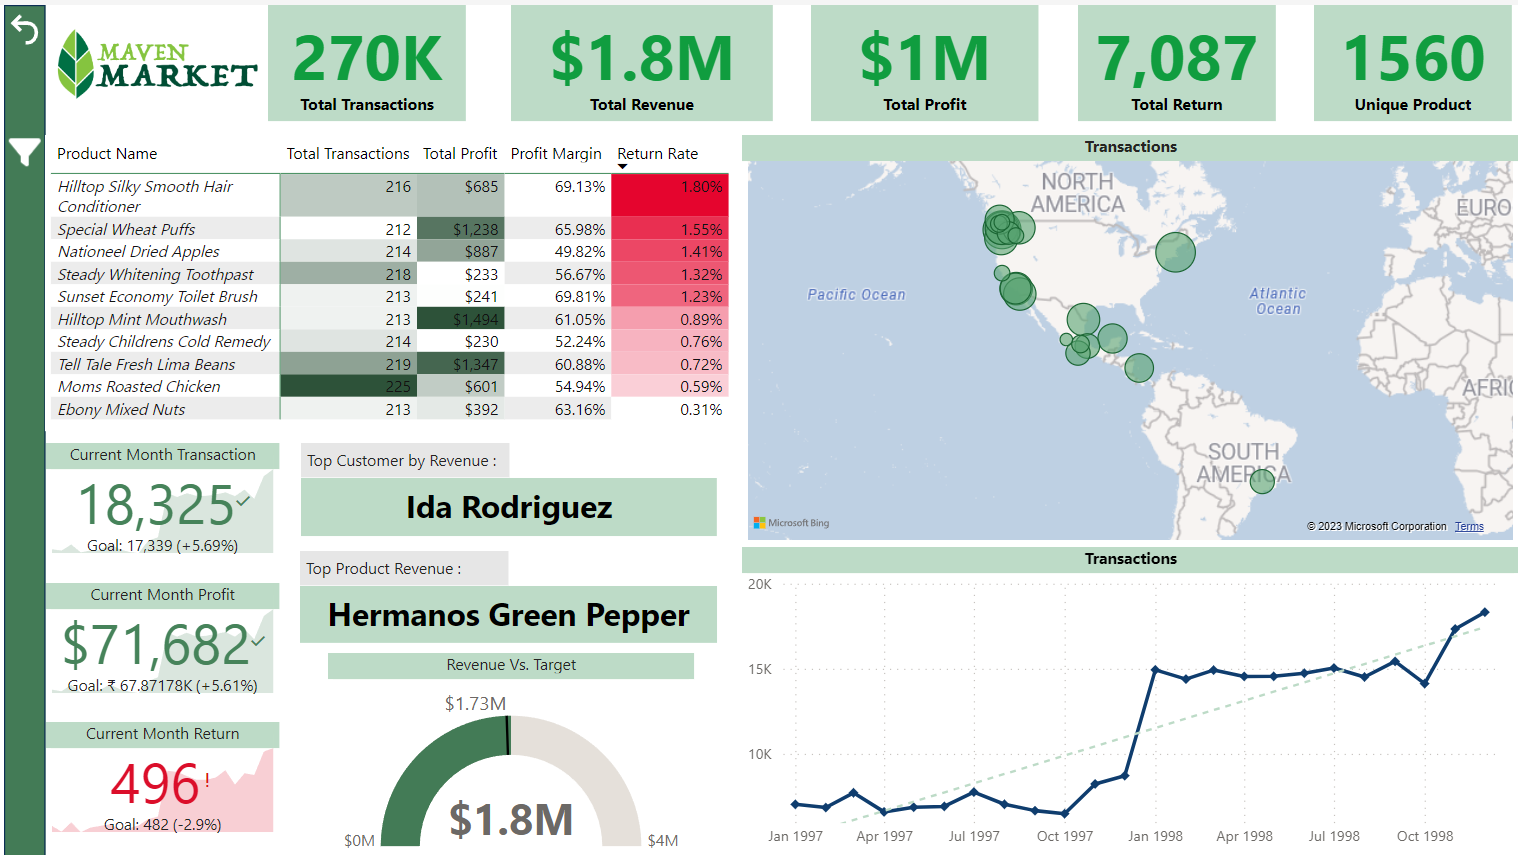

The dashboard page shown, as its layout file describes it:
{"tool":"powerbi","page":{"name":"Main Dashboard","canvas":[1280,720],"ordinal":0},"visuals":[{"type":"image","box":[35.8,0,187.2,97.6],"z":0},{"type":"card","fields":{"Values":["Measure Table.Total Transactions"]},"box":[223,0,166.6,97.6],"z":1000},{"type":"card","fields":{"Values":["Measure Table.Total Revenue"]},"box":[428.1,0,221.2,97.6],"z":2000},{"type":"card","fields":{"Values":["Measure Table.Total Profit"]},"box":[681.5,0,191.6,97.6],"z":3000},{"type":"card","fields":{"Values":["Measure Table.Total Return"]},"box":[906.3,0,166.6,97.6],"z":4000},{"type":"map","fields":{"Size":["Measure Table.Total Transactions"],"Category":["Stores.City"]},"box":[623.3,110.1,656.4,347.5],"z":5000},{"type":"lineChart","fields":{"Y":["Measure Table.Total Transactions"],"Category":["Calendar.Date Hierarchy.Year","Calendar.Date Hierarchy.Start of Month"]},"box":[623.3,457.6,656.4,262.4],"z":6000},{"type":"card","fields":{"Values":["Measure Table.Unique Product"]},"box":[1106,0,166.6,97.6],"z":7000},{"type":"shape","box":[0,0,34.9,720],"z":8000},{"type":"actionButton","box":[0,0,34.9,40.3],"z":9000},{"type":"pivotTable","fields":{"Rows":["Products.product_name"],"Values":["Measure Table.Total Transactions","Measure Table.Total Profit","Measure Table.Profit Margin","Measure Table.Return Rate"]},"box":[34.9,110.1,588.4,249.9],"z":10000},{"type":"kpi","title":"Current Month Transaction","fields":{"Indicator":["Measure Table.Total Transactions"],"TrendLine":["Calendar.Start of Month"],"Goal":["Measure Table.Last Month Transactions"]},"box":[35.8,369.9,197,97.6],"z":11000},{"type":"kpi","title":"Current Month Profit","fields":{"TrendLine":["Calendar.Start of Month"],"Indicator":["Measure Table.Total Profit"],"Goal":["Measure Table.Last Month profit"]},"box":[35.8,487.6,197,97.6],"z":12000},{"type":"kpi","title":"Current Month Return","fields":{"TrendLine":["Calendar.Start of Month"],"Indicator":["Measure Table.Total Return"],"Goal":["Measure Table.Last Month Return"]},"box":[35.8,605.4,197,97.6],"z":13000},{"type":"card","fields":{"Values":["Min(Customers.Full Name)"]},"box":[251,398.9,351.4,49.3],"z":14000},{"type":"textbox","box":[250.7,369.9,175.5,28.7],"z":15000},{"type":"card","fields":{"Values":["Min(Products.product_name)"]},"box":[250.1,490.3,352.3,47.5],"z":16000},{"type":"textbox","box":[249.9,461.2,176.4,28.7],"z":17000},{"type":"gauge","title":"Revenue Vs. Target","fields":{"Y":["Measure Table.Total Revenue"],"TargetValue":["Measure Table.Revenue Target"]},"box":[273.4,546.8,309.2,173],"z":18000},{"type":"actionButton","box":[0,103.9,34.9,40.3],"z":19000}]}

Visuals, with their boxes in screenshot pixels (x1, y1, x2, y2), scaled from the page's 1280x720 canvas onto the 1518x855 screenshot:
image: pyautogui.locateOnScreen(42, 0, 264, 116)
card - Measure Table.Total Transactions: pyautogui.locateOnScreen(264, 0, 462, 116)
card - Measure Table.Total Revenue: pyautogui.locateOnScreen(508, 0, 770, 116)
card - Measure Table.Total Profit: pyautogui.locateOnScreen(808, 0, 1035, 116)
card - Measure Table.Total Return: pyautogui.locateOnScreen(1075, 0, 1272, 116)
map - Measure Table.Total Transactions x Stores.City: pyautogui.locateOnScreen(739, 131, 1517, 543)
lineChart - Measure Table.Total Transactions x Calendar.Date Hierarchy.Year: pyautogui.locateOnScreen(739, 543, 1517, 854)
card - Measure Table.Unique Product: pyautogui.locateOnScreen(1312, 0, 1509, 116)
shape: pyautogui.locateOnScreen(0, 0, 41, 854)
actionButton: pyautogui.locateOnScreen(0, 0, 41, 48)
pivotTable - Products.product_name x Measure Table.Total Transactions: pyautogui.locateOnScreen(41, 131, 739, 428)
"Current Month Transaction" kpi: pyautogui.locateOnScreen(42, 439, 276, 555)
"Current Month Profit" kpi: pyautogui.locateOnScreen(42, 579, 276, 695)
"Current Month Return" kpi: pyautogui.locateOnScreen(42, 719, 276, 835)
card - Min(Customers.Full Name): pyautogui.locateOnScreen(298, 474, 714, 532)
textbox: pyautogui.locateOnScreen(297, 439, 505, 473)
card - Min(Products.product_name): pyautogui.locateOnScreen(297, 582, 714, 639)
textbox: pyautogui.locateOnScreen(296, 548, 506, 582)
"Revenue Vs. Target" gauge: pyautogui.locateOnScreen(324, 649, 691, 854)
actionButton: pyautogui.locateOnScreen(0, 123, 41, 171)
